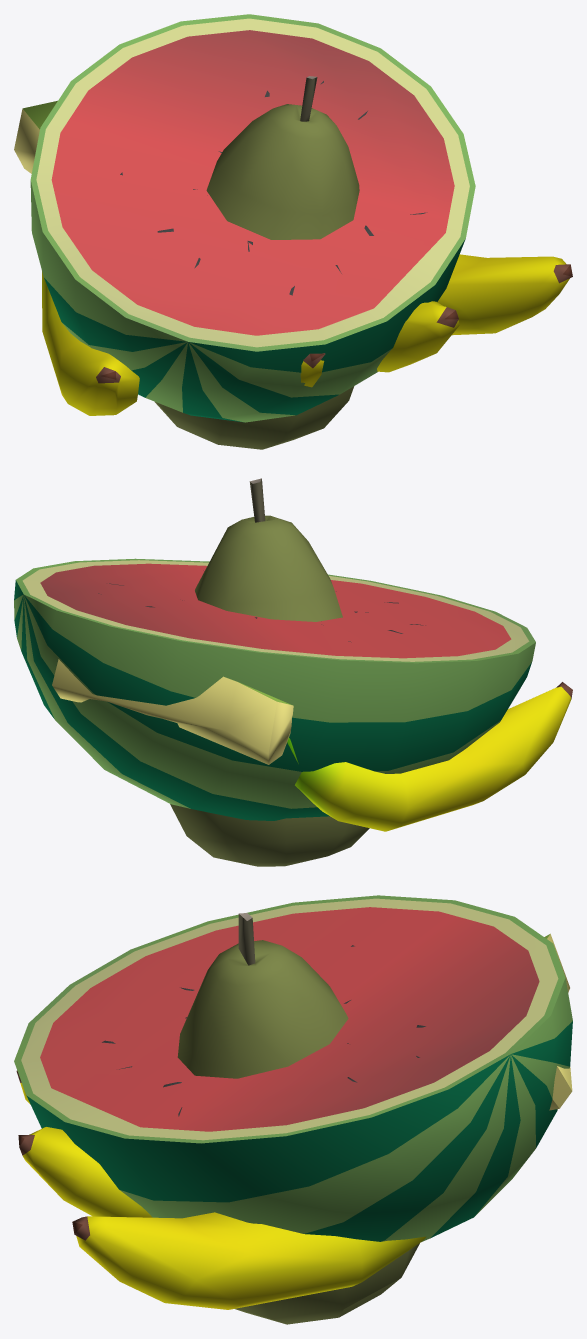
File: fruits.glb
3 views of the same model, one above another, from view 1: azimuth 30°, elevation 25°; view 2: azimuth 150°, elevation 25°; view 3: azimuth 270°, elevation 25° (orthographic). The views are drawn at different scales.
Parts seen in each view (by area): view 1: SM_Fruits_Watermelon_2, SM_Fruits_Avocado_1, SM_Fruits_Banana_Y1; view 2: SM_Fruits_Watermelon_2, SM_Fruits_Banana_Y1, SM_Fruits_Avocado_1; view 3: SM_Fruits_Watermelon_2, SM_Fruits_Banana_Y1, SM_Fruits_Avocado_1.
Part boxes in pixels (x1,y1,x2,y2): SM_Fruits_Watermelon_2: [30, 14, 475, 422]; SM_Fruits_Avocado_1: [155, 76, 359, 449]; SM_Fruits_Banana_Y1: [14, 100, 572, 415]; SM_Fruits_Watermelon_2: [14, 558, 535, 820]; SM_Fruits_Banana_Y1: [52, 659, 572, 831]; SM_Fruits_Avocado_1: [170, 478, 369, 866]; SM_Fruits_Watermelon_2: [14, 895, 572, 1241]; SM_Fruits_Banana_Y1: [16, 933, 572, 1309]; SM_Fruits_Avocado_1: [177, 913, 419, 1324].
Size of the model in its own units: 0.0828 by 0.062 by 0.0766.
1 material, 1 textured.
